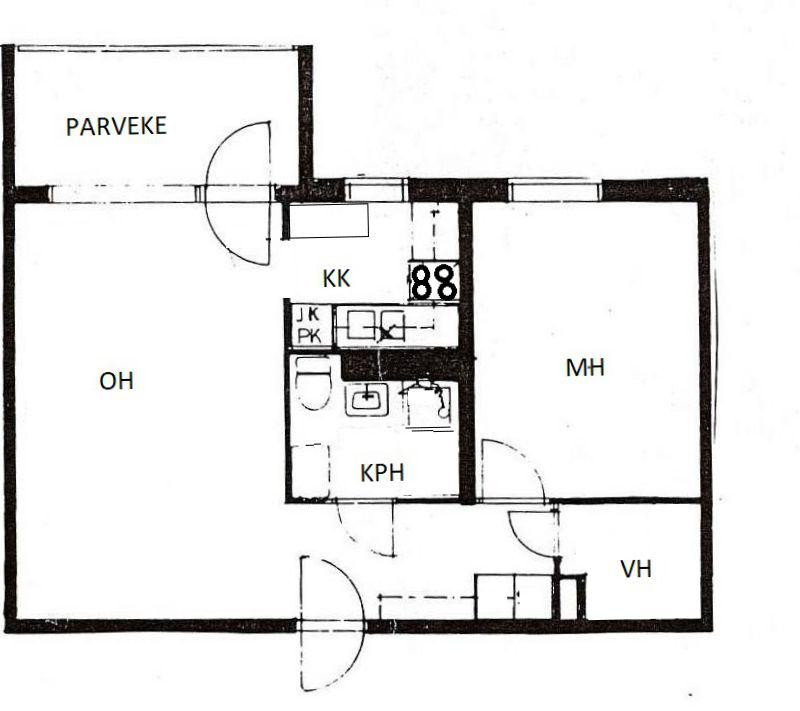bathroom: (290, 349, 458, 499)
door: (201, 185, 278, 269), (201, 116, 277, 201), (294, 550, 367, 634), (293, 614, 366, 694), (478, 433, 546, 508), (334, 494, 402, 562), (505, 505, 564, 564)
perimeter: (1, 174, 717, 639)
window: (39, 177, 204, 217), (498, 173, 615, 211), (331, 172, 422, 208)
